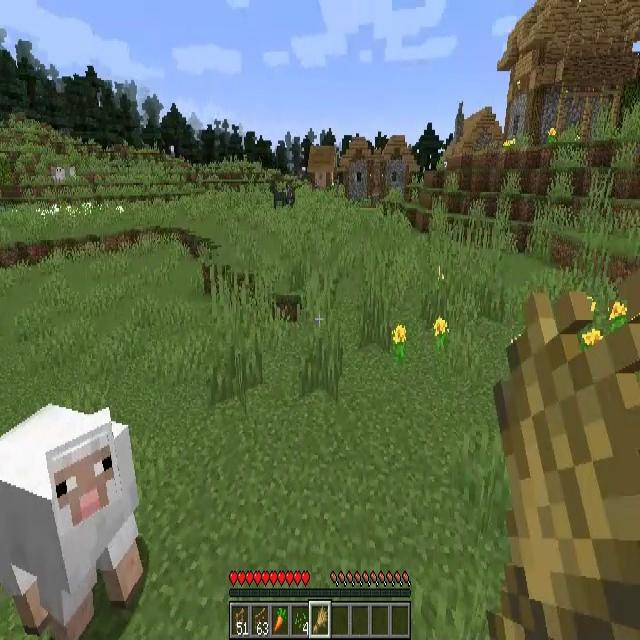flower: (609, 300, 627, 324), (582, 328, 603, 348), (393, 326, 406, 358), (434, 318, 447, 345)
sheep: (0, 405, 142, 640)
